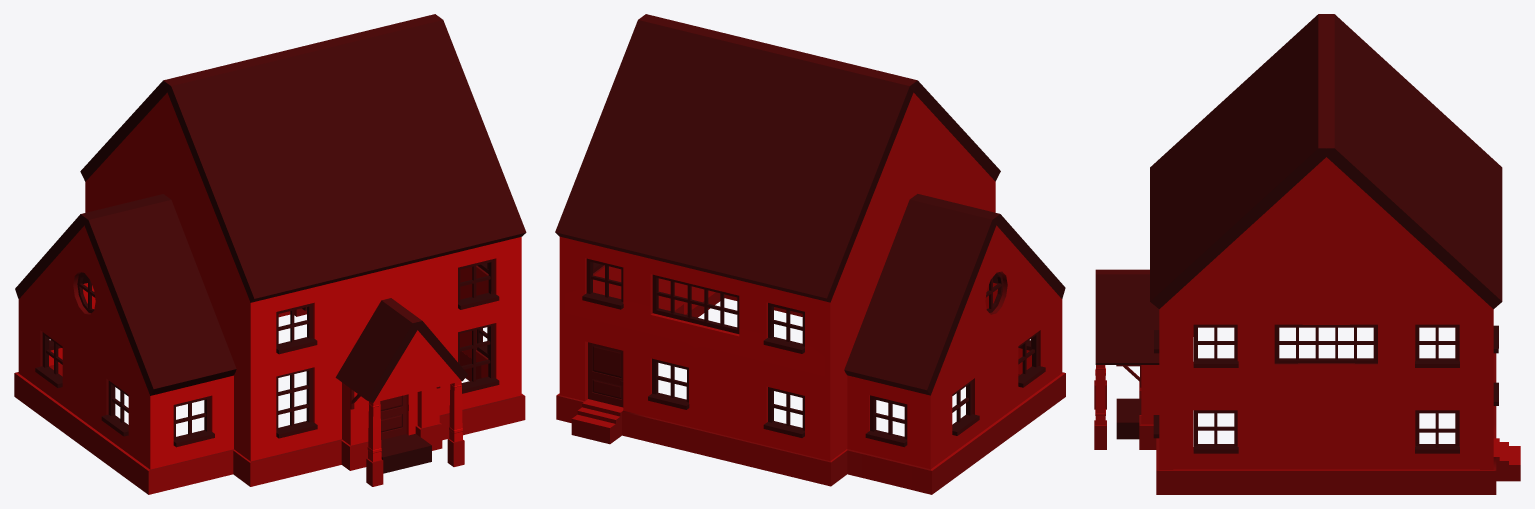
3 renders of one model, left to right at view 1: azimuth 30°, elevation 25°; view 2: azimuth 150°, elevation 25°; view 3: azimuth 270°, elevation 25°, orthographic.
Visible parts, largest first — view 1: base.170; view 2: base.170; view 3: base.170.
Part boxes in pixels (x1=…): base.170: x1=14, y1=14, x2=526, y2=494; base.170: x1=555, y1=14, x2=1065, y2=494; base.170: x1=1094, y1=14, x2=1520, y2=494.
Size of the model in its own units: 1442 by 1441 by 1292.
